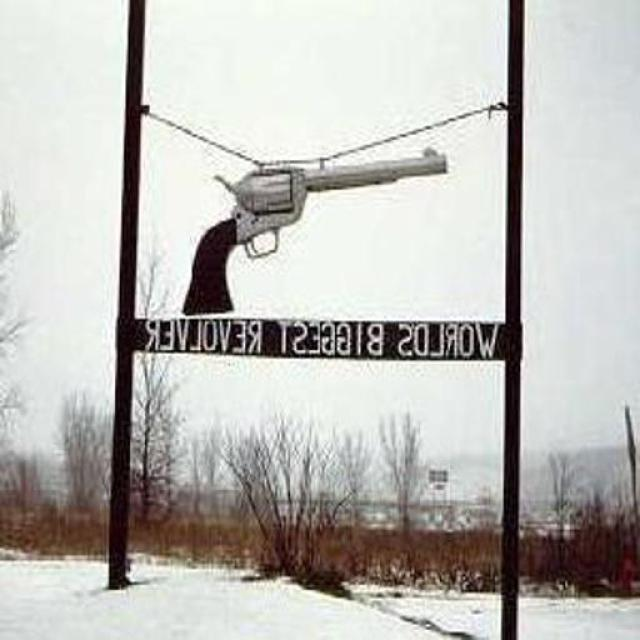pistol: (179, 131, 448, 310)
